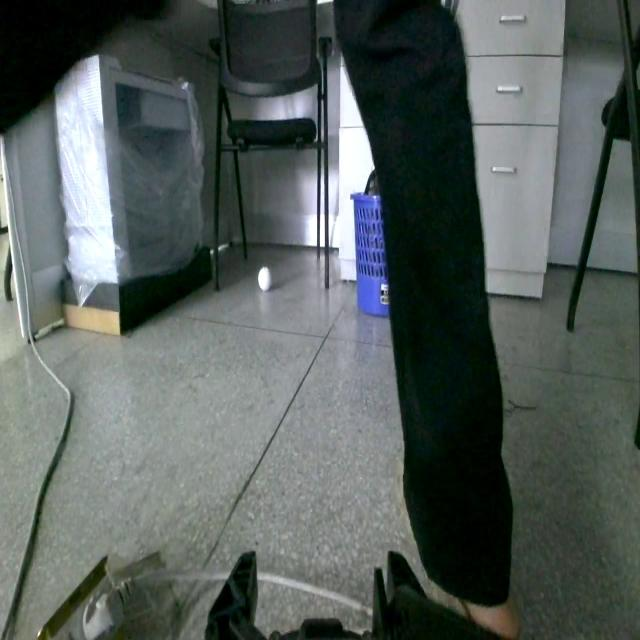ball1: (258, 265, 273, 292)
